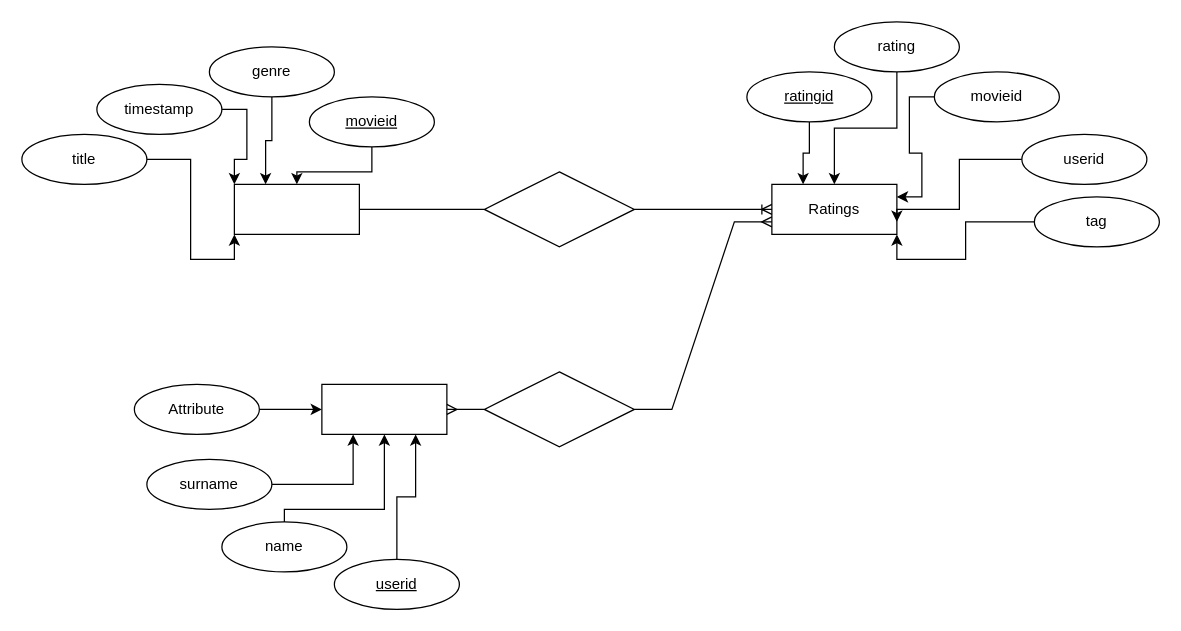
Some shapes in this 1181 by 631 pixel diagram are drawn without their labels. The centre of each missing label's shape, as x and y in pixels:
"Give" goes at (x=558, y=409).
"Have" goes at (x=558, y=209).
"Movies" goes at (x=296, y=208).
"User" goes at (x=384, y=408).
